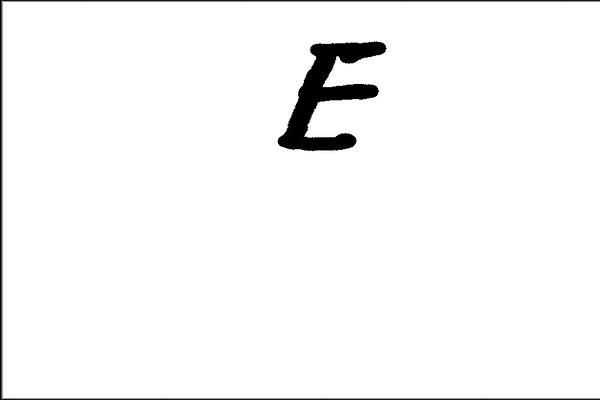E: (272, 35, 389, 154)
